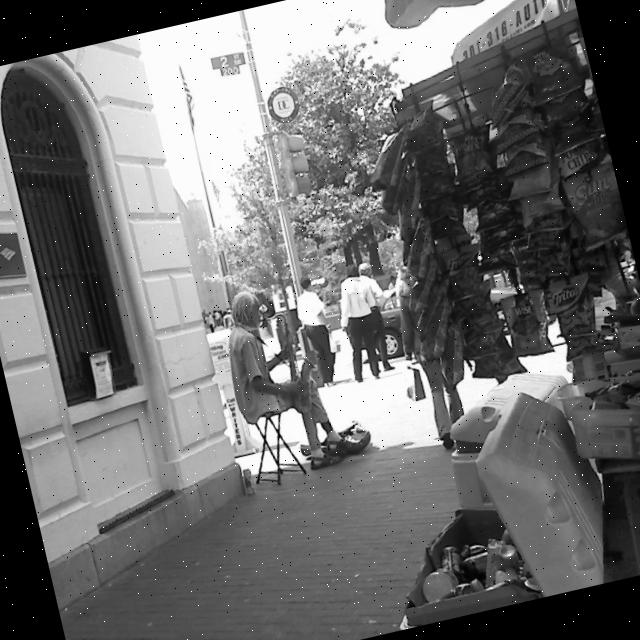saxophone: (261, 302, 328, 420)
